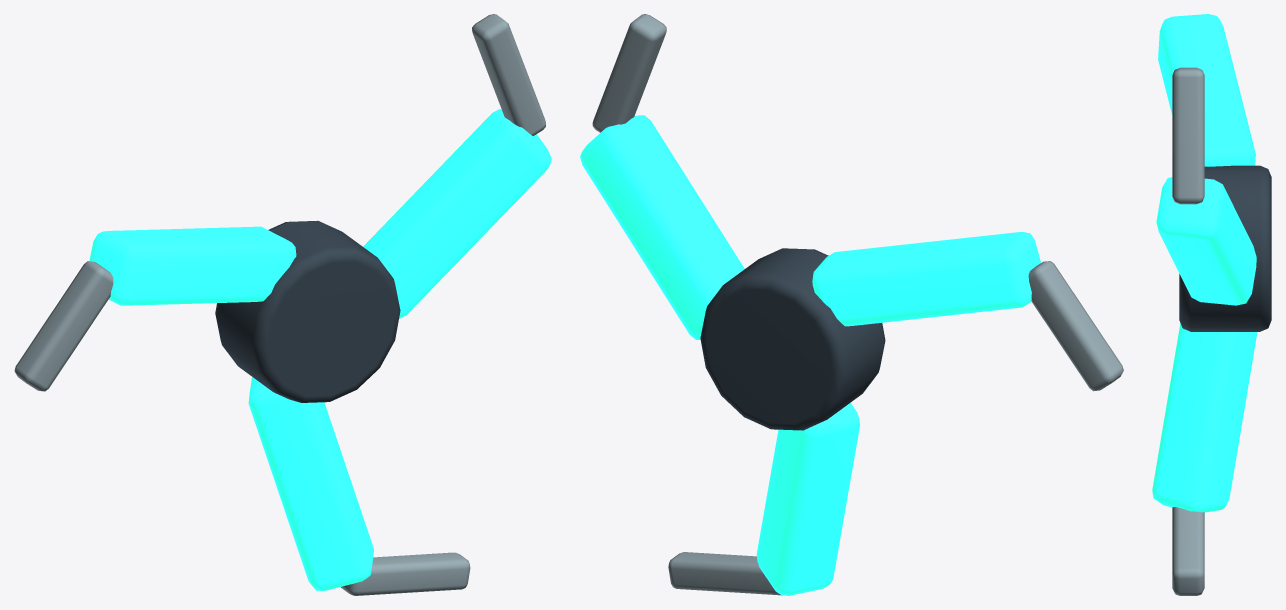
The model's file is SecWind_Normal.fbx.
The picture shows the model from 3 angles, left to right: view 1: azimuth 30°, elevation 25°; view 2: azimuth 150°, elevation 25°; view 3: azimuth 270°, elevation 25°; orthographic projection. The views are drawn at different scales.
Parts seen in each view (by area): view 1: Rotor hub, Wind cutter, Wind cutter.002, Wind cutter.001, Blade tip.001, Blade tip, Blade tip.002; view 2: Rotor hub, Wind cutter, Wind cutter.001, Wind cutter.002, Blade tip.001, Blade tip, Blade tip.002; view 3: Wind cutter.002, Wind cutter, Wind cutter.001, Rotor hub, Blade tip, Blade tip.002.
Boxes of the visible parts, x1,y1,x2,y2 form: Rotor hub: (215,220,400,402); Wind cutter: (363,109,551,318); Wind cutter.002: (248,377,373,590); Wind cutter.001: (89,226,296,305); Blade tip.001: (14,261,113,391); Blade tip: (472,14,545,135); Blade tip.002: (341,552,470,595); Rotor hub: (700,248,885,430); Wind cutter: (580,115,744,339); Wind cutter.001: (812,232,1040,326); Wind cutter.002: (756,403,859,595); Blade tip.001: (1028,261,1123,391); Blade tip: (592,14,666,132); Blade tip.002: (668,552,782,595); Wind cutter.002: (1152,323,1257,512); Wind cutter: (1156,177,1256,305); Wind cutter.001: (1158,14,1255,166); Rotor hub: (1179,165,1271,331); Blade tip: (1172,67,1204,204); Blade tip.002: (1172,507,1204,595).
Bounding box in the file's own units: 129 × 130 × 25.84.
